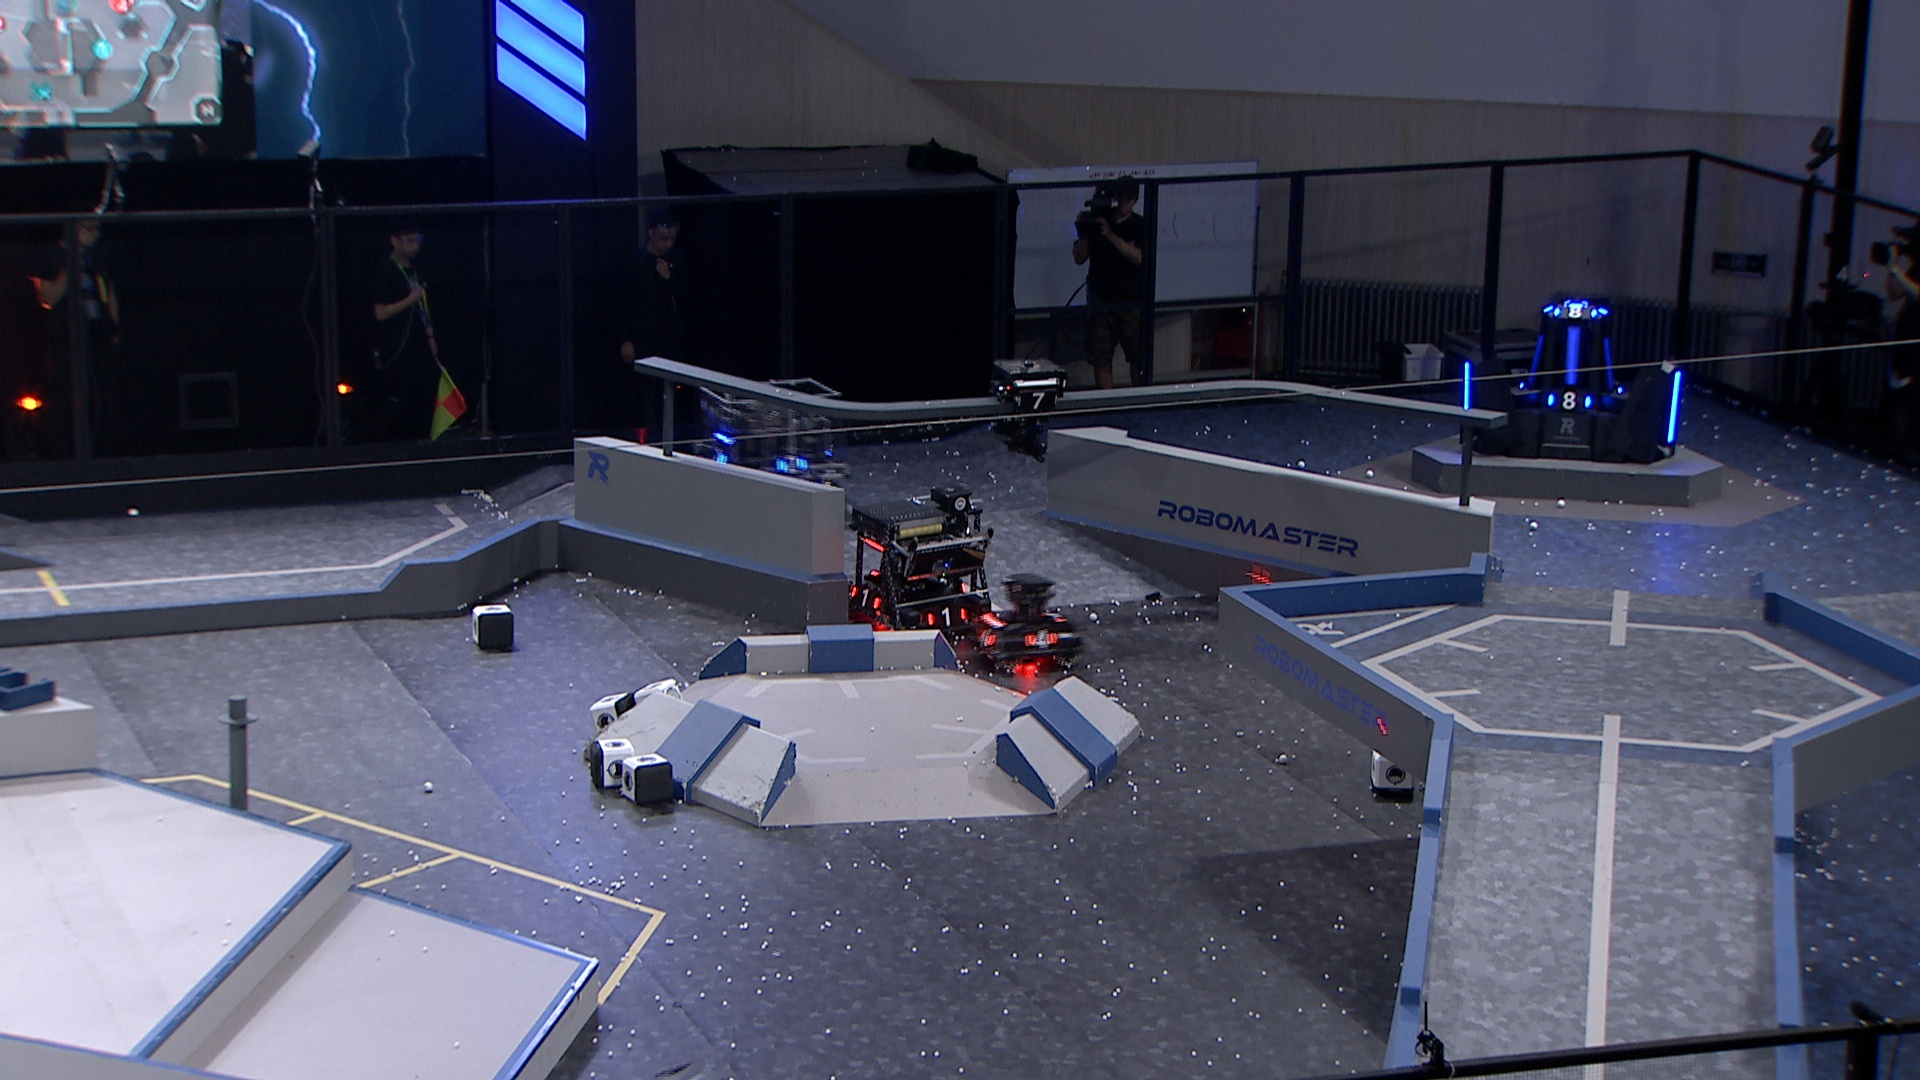armor: (1664, 371, 1684, 447), (1564, 324, 1585, 390), (1524, 334, 1547, 390), (1543, 390, 1592, 413), (1022, 626, 1060, 654), (847, 585, 884, 613), (1015, 390, 1059, 413), (1549, 305, 1602, 323), (1604, 335, 1619, 396), (922, 607, 967, 628), (774, 454, 811, 477), (1458, 360, 1474, 411), (1044, 604, 1068, 624), (973, 629, 996, 647)
base: (1456, 301, 1689, 465)
car: (836, 496, 997, 644), (698, 371, 851, 514), (969, 572, 1087, 678)
watcher: (986, 357, 1064, 465)
